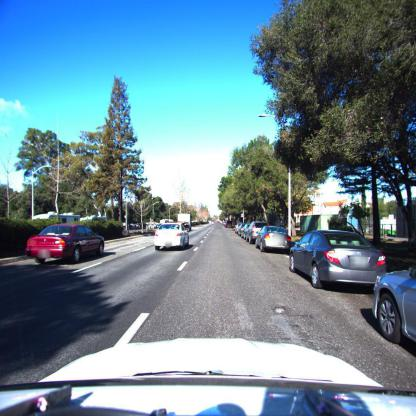car: (368, 236, 416, 369), (290, 228, 388, 292), (24, 223, 106, 265), (154, 222, 189, 251), (256, 226, 291, 254), (247, 221, 270, 244), (240, 223, 252, 240), (236, 223, 247, 238)
truck: (176, 214, 191, 232)
